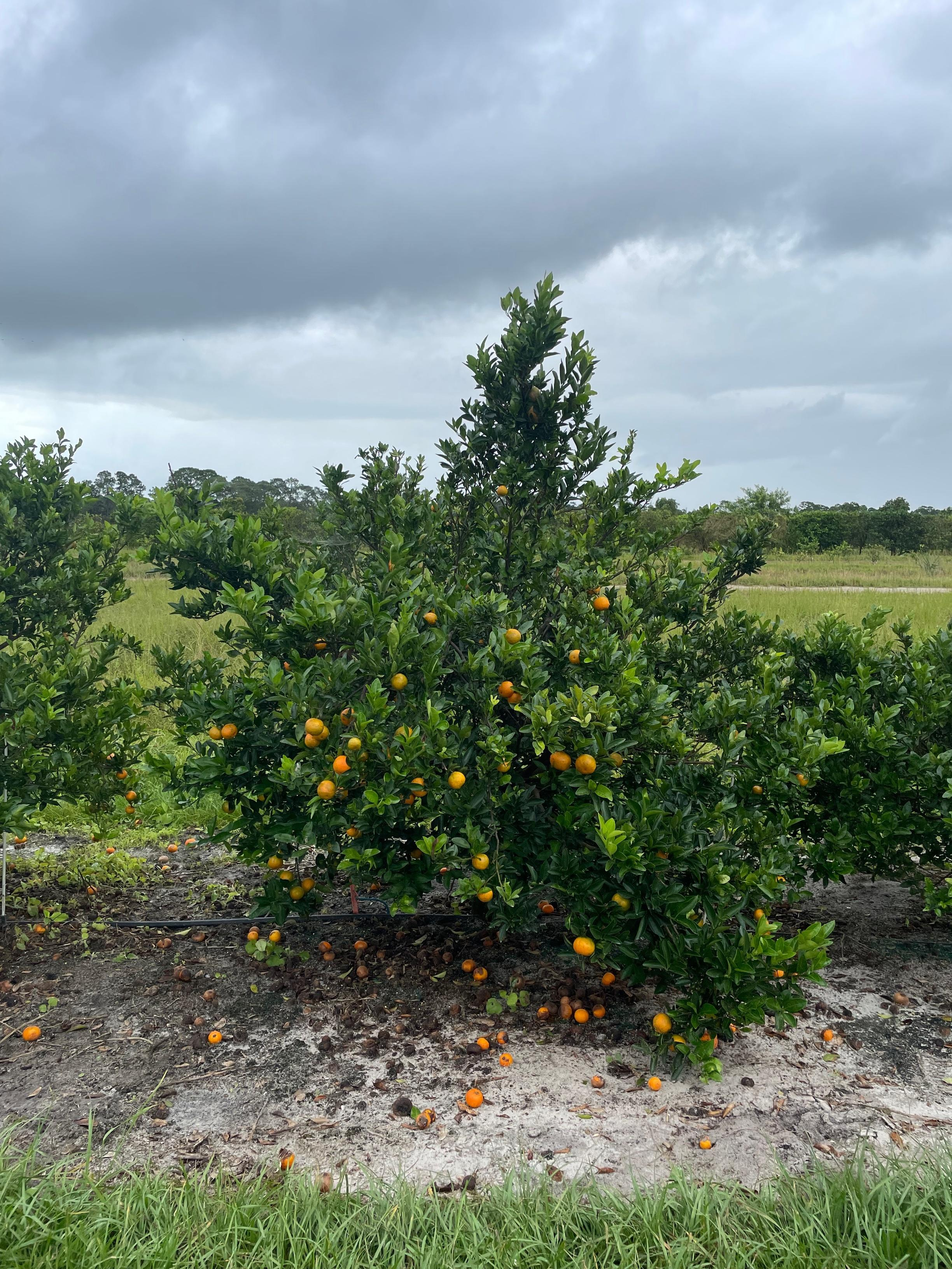fruit_on_ground: (548, 749, 573, 773), (693, 1028, 719, 1051), (650, 1011, 674, 1035), (408, 774, 432, 798), (574, 752, 598, 776), (303, 716, 328, 738), (573, 935, 597, 956), (316, 777, 338, 799), (665, 1033, 688, 1054), (495, 679, 518, 700), (523, 404, 545, 425), (610, 891, 632, 912), (338, 706, 359, 727), (219, 720, 240, 741), (389, 671, 410, 692), (331, 782, 351, 803), (332, 753, 352, 774), (502, 626, 523, 646), (446, 770, 467, 790), (311, 723, 331, 743), (471, 851, 491, 871), (493, 755, 514, 774), (505, 687, 526, 706), (396, 789, 416, 808), (591, 594, 611, 613), (303, 731, 324, 749), (525, 383, 544, 402), (582, 578, 602, 596), (606, 750, 626, 768), (266, 853, 285, 871), (476, 885, 494, 903), (346, 735, 364, 753), (651, 846, 670, 863), (420, 610, 439, 627), (794, 771, 812, 788), (567, 647, 584, 665), (208, 724, 225, 741), (311, 635, 329, 651), (280, 656, 296, 673), (280, 869, 296, 886), (299, 876, 316, 892), (289, 885, 306, 901), (101, 750, 118, 765), (408, 845, 425, 860), (355, 748, 370, 764), (494, 483, 510, 498), (221, 799, 236, 814), (268, 928, 283, 943), (345, 823, 360, 838), (773, 874, 788, 888), (750, 783, 765, 797), (114, 767, 129, 781), (63, 536, 78, 550), (752, 908, 766, 922), (254, 790, 269, 803), (437, 863, 452, 876), (479, 571, 494, 584), (124, 804, 137, 816), (658, 714, 671, 726), (125, 790, 137, 802), (429, 502, 442, 513)
fruit_on_tree: (313, 1170, 335, 1194), (414, 1107, 436, 1129), (464, 1087, 484, 1108), (21, 1024, 42, 1042), (279, 1152, 296, 1170), (206, 1028, 223, 1045), (535, 1005, 551, 1021), (556, 994, 572, 1010), (600, 971, 616, 987), (647, 1075, 663, 1091), (892, 989, 909, 1004), (819, 1028, 836, 1043), (178, 966, 194, 981), (573, 1007, 589, 1022), (460, 957, 476, 972), (498, 1051, 514, 1066), (473, 966, 489, 981), (476, 1035, 491, 1050), (588, 1074, 604, 1088), (202, 987, 217, 1001), (592, 1003, 607, 1017), (724, 1021, 738, 1035), (356, 963, 370, 977), (698, 1136, 712, 1150), (558, 1007, 573, 1020), (14, 832, 29, 845), (353, 937, 368, 950), (157, 935, 173, 947), (247, 926, 260, 940), (191, 930, 206, 942), (368, 879, 381, 892), (33, 922, 47, 934), (440, 950, 454, 962), (321, 950, 335, 962), (318, 939, 332, 951), (449, 1003, 461, 1016), (392, 1023, 405, 1035), (495, 1030, 508, 1042), (192, 1015, 206, 1026), (541, 904, 555, 915), (394, 928, 406, 940), (482, 935, 494, 947), (184, 835, 197, 846), (773, 967, 786, 978), (537, 898, 550, 909), (132, 817, 144, 828), (375, 948, 387, 958), (159, 862, 170, 872), (86, 885, 97, 895), (106, 845, 116, 855), (168, 842, 178, 852)
